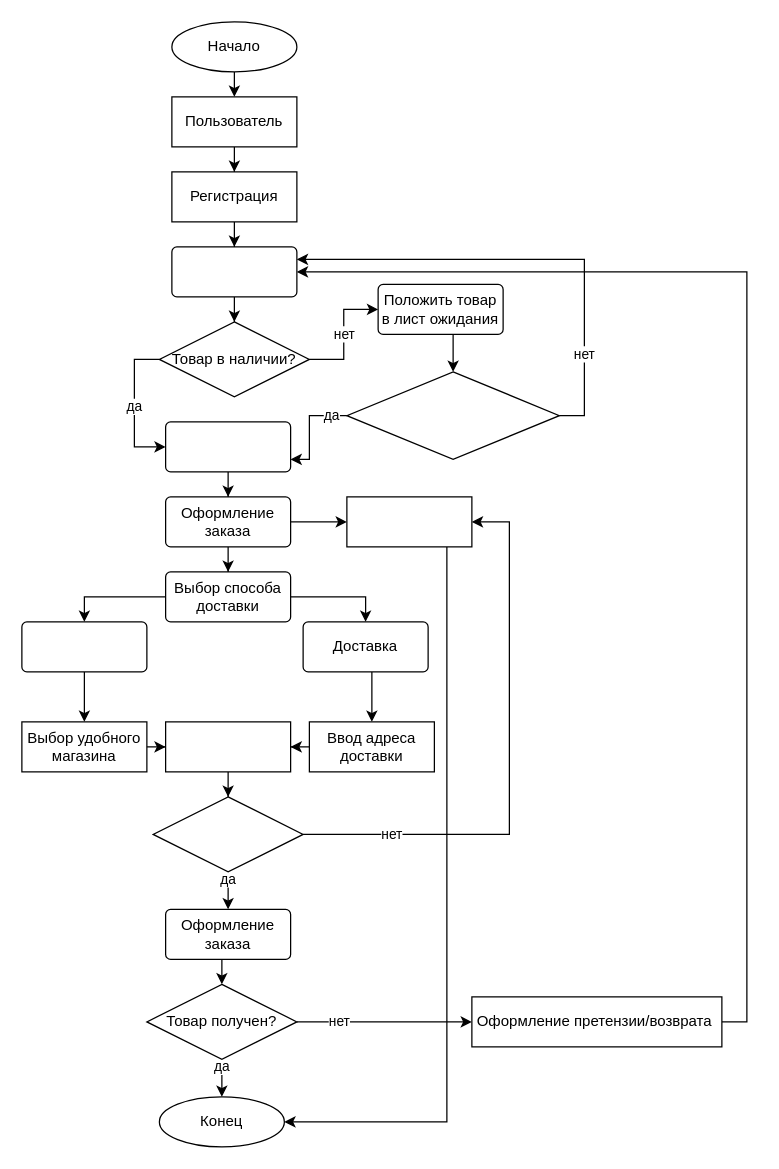
Image size: 779x1169. Some labels were removed from this diagram. The shapes that lost their labels are listed below. From the top down, each one's centre as x and y in pixels, then its label:
At (x=234, y=271): "Просмотр товаров".
At (x=452, y=415): "Товар появился в наличии?".
At (x=227, y=446): "Добавление в корзину".
At (x=409, y=521): "Отмена заказа".
At (x=84, y=646): "Самовызов".
At (x=227, y=746): "Расчет стоимости".
At (x=227, y=834): "Оплата прошла?".
